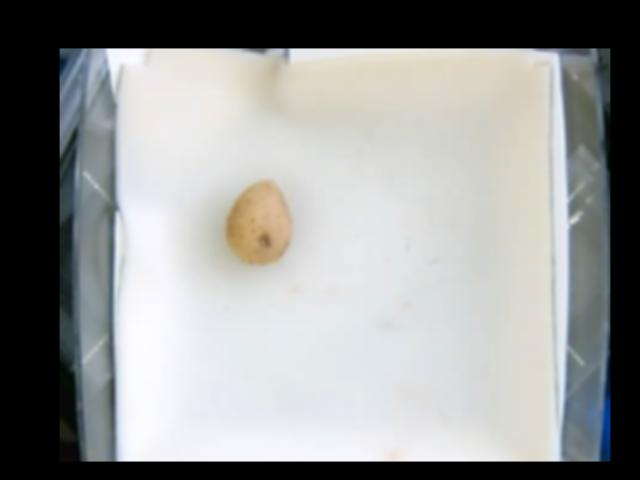Potato: (227, 180, 291, 265)
